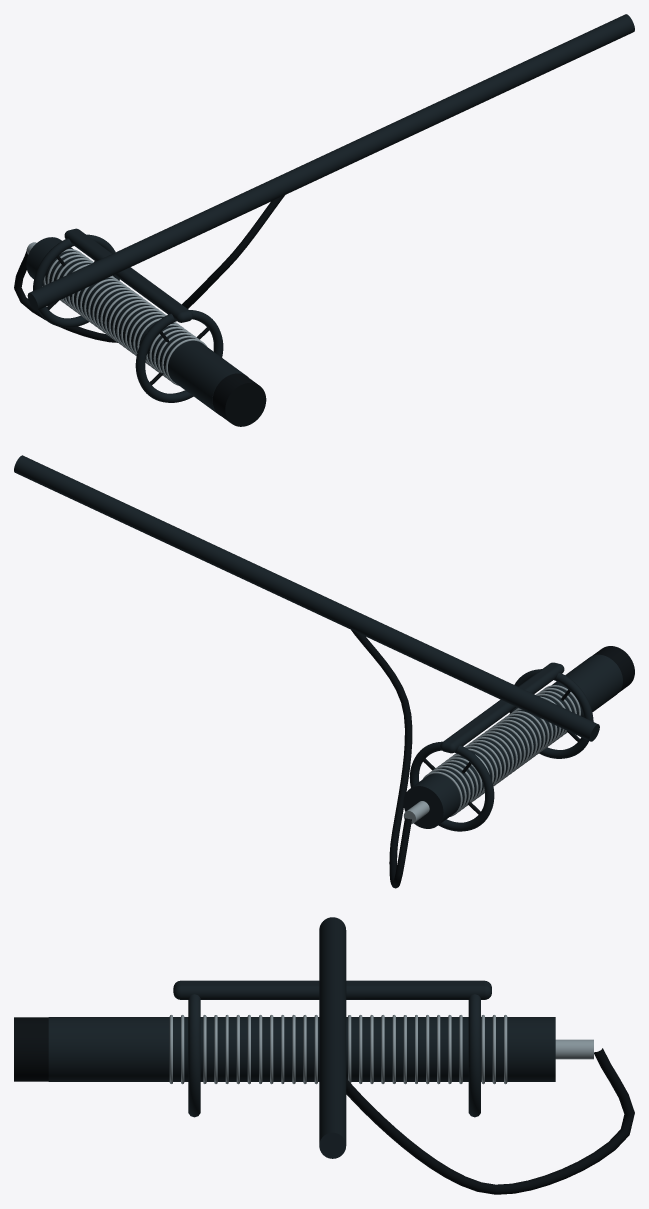
The model's file is BOOM_MICROPHONE.glb.
3 views of the same model, one above another, from view 1: azimuth 30°, elevation 25°; view 2: azimuth 150°, elevation 25°; view 3: azimuth 270°, elevation 25° (orthographic). The views are drawn at different scales.
Parts seen in each view (by area): view 1: Boom, Shotgun_shell, Foam_front_cap, Suspension_bridge, XLR_cable, Shock_mount_ring_1, Shock_mount_ring; view 2: Boom, Shotgun_shell, XLR_cable, Suspension_bridge, Shock_mount_ring, Shock_mount_ring_1, Foam_front_cap; view 3: Shotgun_shell, Boom, Suspension_bridge, XLR_cable, Foam_front_cap, Shock_mount_ring, Shock_mount_ring_1, Cable_socket.
Boxes of the visible parts, bbox=[...] form: Boom: bbox=[27, 14, 634, 310]; Shotgun_shell: bbox=[26, 237, 248, 415]; Foam_front_cap: bbox=[212, 373, 266, 426]; Suspension_bridge: bbox=[64, 228, 192, 322]; XLR_cable: bbox=[14, 195, 284, 342]; Shock_mount_ring_1: bbox=[135, 310, 223, 402]; Shock_mount_ring: bbox=[33, 234, 119, 327]; Boom: bbox=[14, 455, 599, 741]; Shotgun_shell: bbox=[403, 654, 622, 828]; XLR_cable: bbox=[351, 630, 412, 888]; Suspension_bridge: bbox=[440, 662, 564, 753]; Shock_mount_ring: bbox=[409, 741, 494, 831]; Shock_mount_ring_1: bbox=[509, 669, 593, 758]; Foam_front_cap: bbox=[592, 646, 634, 692]; Shotgun_shell: bbox=[48, 1017, 555, 1081]; Boom: bbox=[319, 917, 346, 1158]; Suspension_bridge: bbox=[173, 980, 491, 999]; XLR_cable: bbox=[346, 1048, 634, 1194]; Foam_front_cap: bbox=[14, 1017, 48, 1081]; Shock_mount_ring: bbox=[468, 994, 480, 1117]; Shock_mount_ring_1: bbox=[188, 994, 200, 1117]; Cable_socket: bbox=[555, 1039, 593, 1059].
Bounding box in the file's own units: 2.46 × 1.04 × 1.62.
